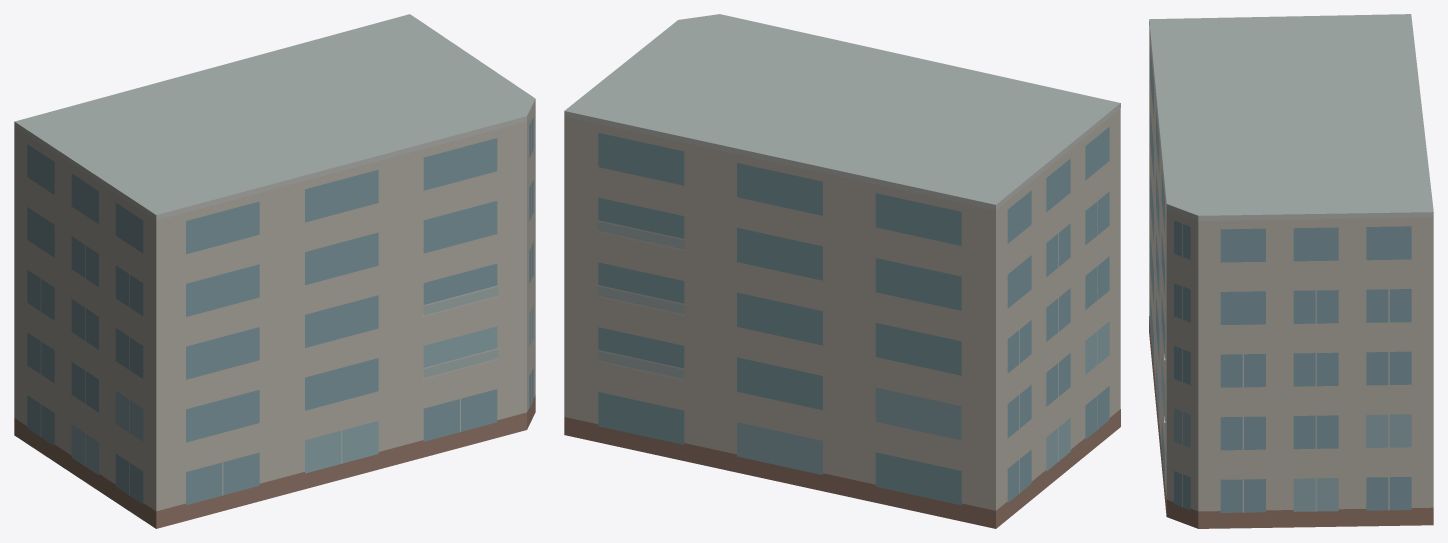
Rendered from survey-upis-32702361.glb.
The picture shows the model from 3 angles, left to right: view 1: azimuth 30°, elevation 25°; view 2: azimuth 150°, elevation 25°; view 3: azimuth 270°, elevation 25°; orthographic projection. The views are drawn at different scales.
Visible parts, largest first — view 1: survey-upis-32702361.tmp; view 2: survey-upis-32702361.tmp; view 3: survey-upis-32702361.tmp.
Part boxes in pixels (x1,y1,x2,y2): survey-upis-32702361.tmp: (14, 14, 535, 528); survey-upis-32702361.tmp: (564, 14, 1120, 528); survey-upis-32702361.tmp: (1149, 14, 1433, 528).
Size of the model in its own units: 19.91 by 14.4 by 11.88.
